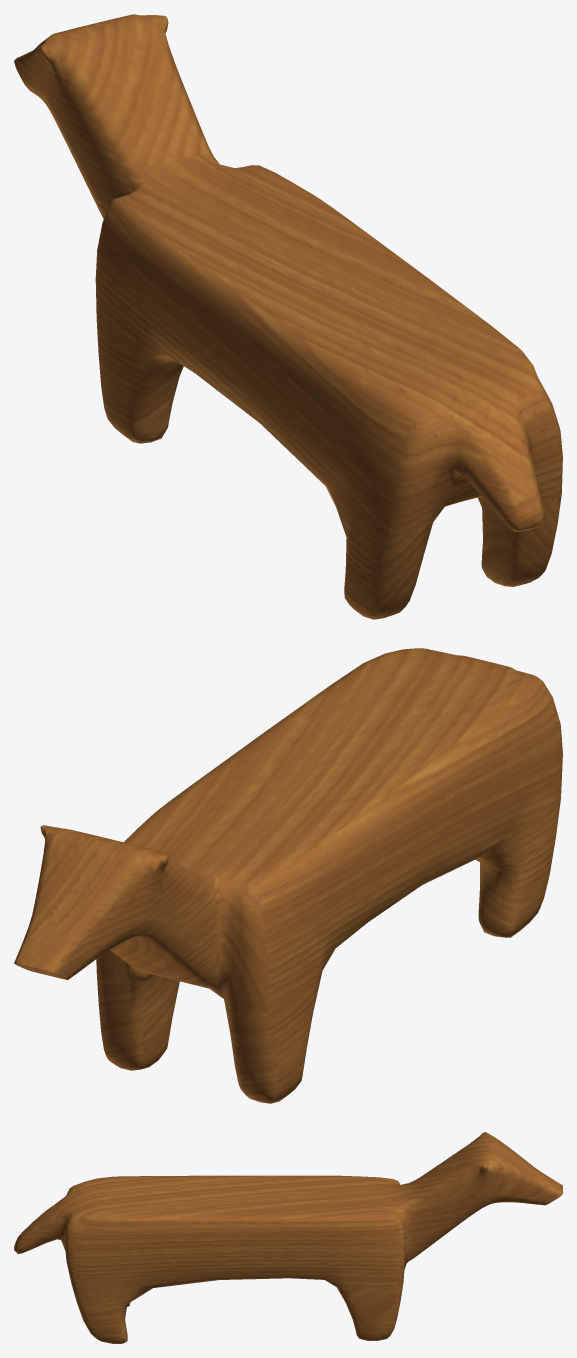
Rendered from Dalapong.glb.
The picture shows the model from 3 angles, top to bottom: view 1: azimuth 30°, elevation 25°; view 2: azimuth 150°, elevation 25°; view 3: azimuth 270°, elevation 25°; orthographic projection. The views are drawn at different scales.
Visible parts, largest first — view 1: pCube1; view 2: pCube1; view 3: pCube1.
Part boxes in pixels (x1,y1,x2,y2): pCube1: (14, 14, 562, 619); pCube1: (14, 648, 562, 1103); pCube1: (14, 1132, 562, 1343).
Size of the model in its own units: 0.9187 by 1.59 by 4.45.
Materials: 1 (1 with a texture image).
